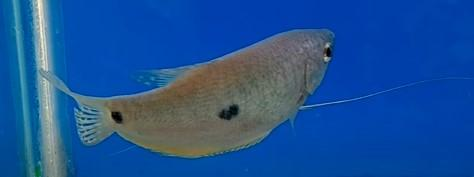Gourami: (39, 25, 474, 161)
